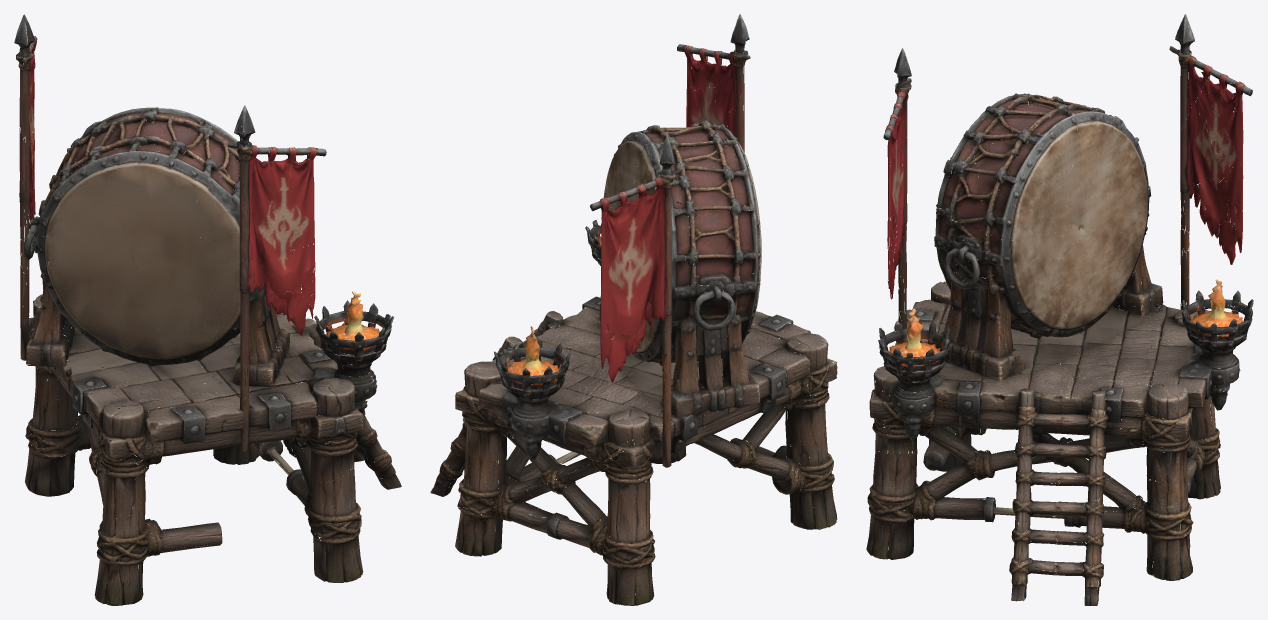
The model's file is war-drum-tripo.glb.
The picture shows the model from 3 angles, left to right: view 1: azimuth 30°, elevation 25°; view 2: azimuth 150°, elevation 25°; view 3: azimuth 270°, elevation 25°; orthographic projection. The views are drawn at different scales.
Visible parts, largest first — view 1: tripo_node_75922108-1649-4e9e-8653-eb40933e131f; view 2: tripo_node_75922108-1649-4e9e-8653-eb40933e131f; view 3: tripo_node_75922108-1649-4e9e-8653-eb40933e131f.
Boxes of the visible parts, x1=… form: tripo_node_75922108-1649-4e9e-8653-eb40933e131f: x1=14, y1=14, x2=401, y2=605; tripo_node_75922108-1649-4e9e-8653-eb40933e131f: x1=430, y1=14, x2=837, y2=605; tripo_node_75922108-1649-4e9e-8653-eb40933e131f: x1=866, y1=14, x2=1253, y2=605.
Size of the model in its own units: 0.7423 by 1 by 0.7593.
Materials: 1 (1 with a texture image).
